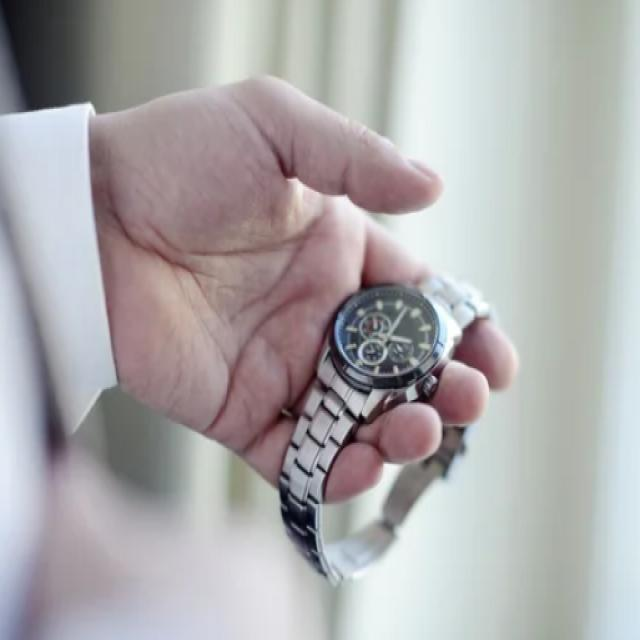Watch: (276, 272, 493, 582)
